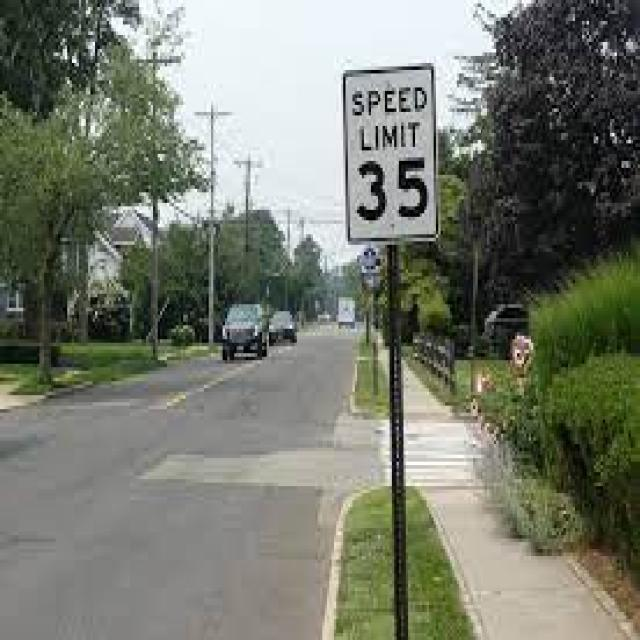speedLimit35: (340, 60, 439, 248)
